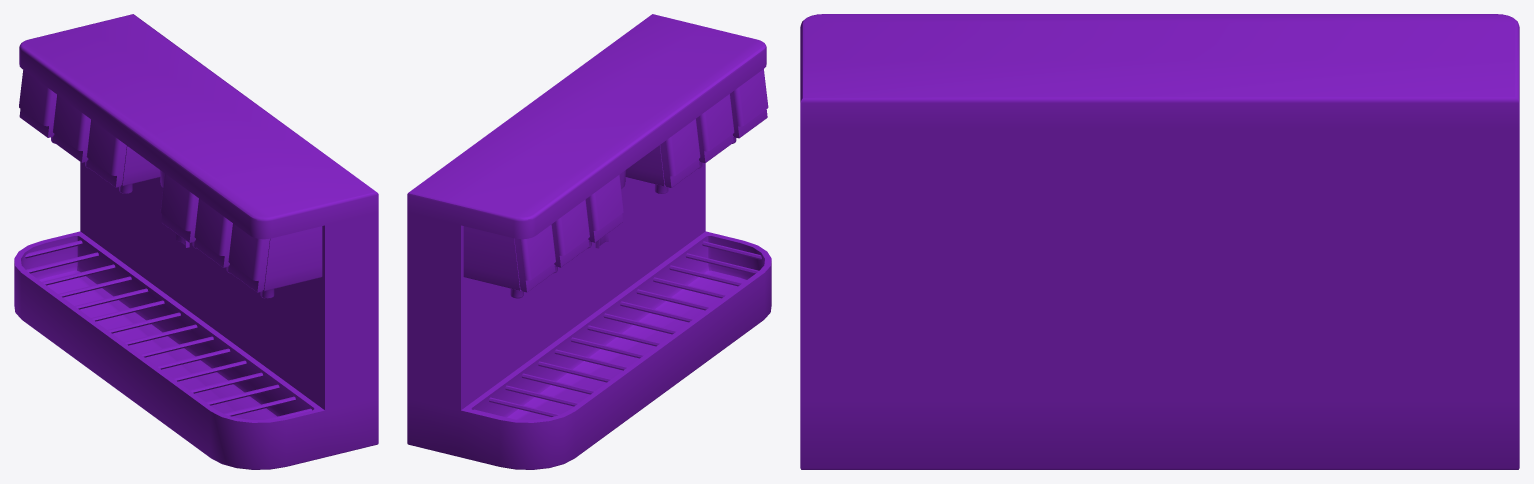
The model's file is Drink_Machine_1.fbx.
3 renders of one model, left to right at view 1: azimuth 30°, elevation 25°; view 2: azimuth 150°, elevation 25°; view 3: azimuth 270°, elevation 25°, orthographic. The views are drawn at different scales.
Visible parts, largest first — view 1: Drink Machine; view 2: Drink Machine; view 3: Drink Machine.
Part boxes in pixels (<box>): Drink Machine: <box>14,14,378,469</box>; Drink Machine: <box>407,14,771,469</box>; Drink Machine: <box>800,14,1519,469</box>.
Bounding box in the file's own units: 58.18 × 100 × 176.
